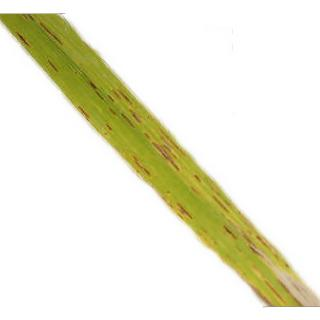Bercak-Cokelat-Sempit: (88, 80, 148, 138), (152, 129, 188, 171), (259, 279, 300, 310), (38, 16, 68, 49), (245, 240, 272, 265), (129, 156, 151, 182), (212, 192, 232, 215), (173, 194, 187, 223), (43, 59, 64, 78), (15, 31, 32, 50), (76, 103, 91, 122), (194, 173, 214, 187), (220, 224, 236, 241)
